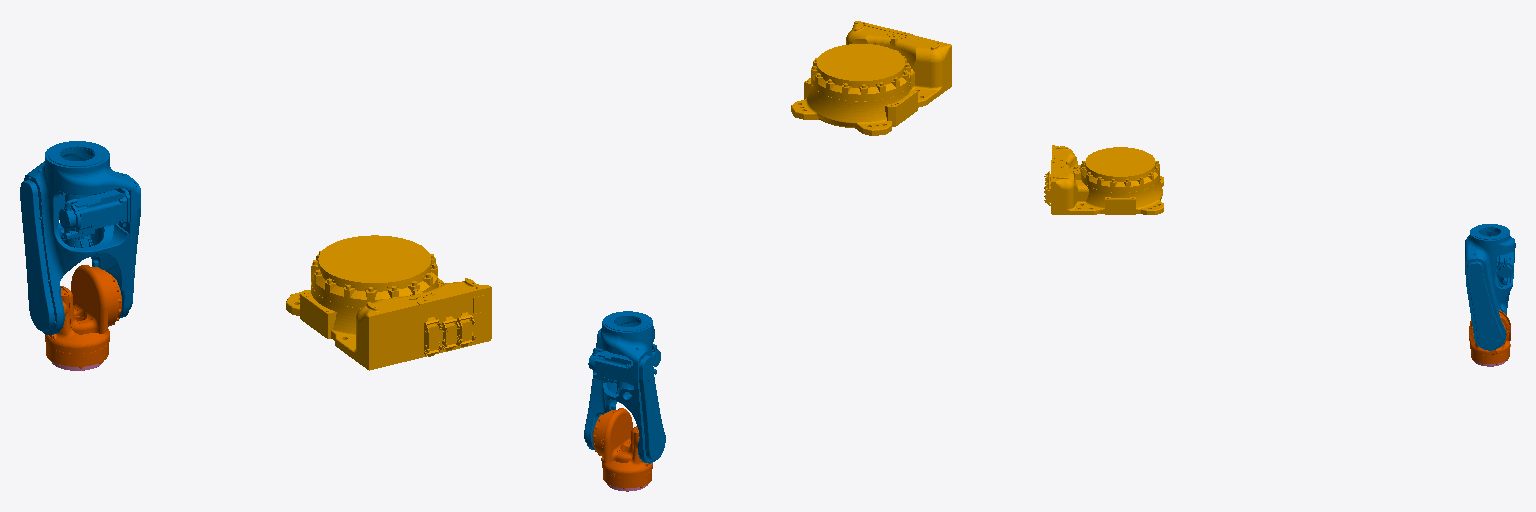
URDF robot description (BT200L-B001):
<?xml version="1.0" ?>
<robot name="BT200L-B001">

<link name="base_link">
  <inertial>
    <origin xyz="0.0005286940631888884 -0.09351962448540763 0.09975361135496807" rpy="0 0 0"/>
    <mass value="414.82916023047306"/>
    <inertia ixx="14.690707" iyy="8.178554" izz="19.669757" ixy="0.149949" iyz="-0.002058" ixz="-0.003263"/>
  </inertial>
  <visual>
    <origin xyz="0 0 0" rpy="0 0 0"/>
    <geometry>
      <mesh filename="package://BT200L-B001_description/meshes/base_link.stl" scale="0.001 0.001 0.001"/>
    </geometry>
    <material name="silver"/>
  </visual>
  <collision>
    <origin xyz="0 0 0" rpy="0 0 0"/>
    <geometry>
      <mesh filename="package://BT200L-B001_description/meshes/base_link.stl" scale="0.001 0.001 0.001"/>
    </geometry>
  </collision>
</link>

<link name="BT200L-B001_J1_1">
  <inertial>
    <origin xyz="-0.07500369954163989 0.24696632421996725 0.1733844924209825" rpy="0 0 0"/>
    <mass value="465.24384462946125"/>
    <inertia ixx="63.006819" iyy="13.410029" izz="64.062714" ixy="7.542895" iyz="-4.879336" ixz="1.583862"/>
  </inertial>
  <visual>
    <origin xyz="-0.0 -0.0 -0.22" rpy="0 0 0"/>
    <geometry>
      <mesh filename="package://BT200L-B001_description/meshes/BT200L-B001_J1_1.stl" scale="0.001 0.001 0.001"/>
    </geometry>
    <material name="silver"/>
  </visual>
  <collision>
    <origin xyz="-0.0 -0.0 -0.22" rpy="0 0 0"/>
    <geometry>
      <mesh filename="package://BT200L-B001_description/meshes/BT200L-B001_J1_1.stl" scale="0.001 0.001 0.001"/>
    </geometry>
  </collision>
</link>

<link name="BT200L-B001_J2_1">
  <inertial>
    <origin xyz="0.15345722898509323 0.5216823321026636 0.0006238393241979057" rpy="0 0 0"/>
    <mass value="325.69542470916366"/>
    <inertia ixx="89.225817" iyy="5.399661" izz="88.43321" ixy="-4.743946" iyz="-2.674622" ixz="-0.112634"/>
  </inertial>
  <visual>
    <origin xyz="0.047 -0.72 -0.45" rpy="0 0 0"/>
    <geometry>
      <mesh filename="package://BT200L-B001_description/meshes/BT200L-B001_J2_1.stl" scale="0.001 0.001 0.001"/>
    </geometry>
    <material name="silver"/>
  </visual>
  <collision>
    <origin xyz="0.047 -0.72 -0.45" rpy="0 0 0"/>
    <geometry>
      <mesh filename="package://BT200L-B001_description/meshes/BT200L-B001_J2_1.stl" scale="0.001 0.001 0.001"/>
    </geometry>
  </collision>
</link>

<link name="BT200L-B001_J3_1">
  <inertial>
    <origin xyz="-0.0550736653061177 0.15038418270685439 -0.2343042390577201" rpy="0 0 0"/>
    <mass value="277.8317664083973"/>
    <inertia ixx="19.421359" iyy="16.181662" izz="6.951644" ixy="-0.943991" iyz="5.382507" ixz="1.620478"/>
  </inertial>
  <visual>
    <origin xyz="-0.028 -1.88 -0.45" rpy="0 0 0"/>
    <geometry>
      <mesh filename="package://BT200L-B001_description/meshes/BT200L-B001_J3_1.stl" scale="0.001 0.001 0.001"/>
    </geometry>
    <material name="silver"/>
  </visual>
  <collision>
    <origin xyz="-0.028 -1.88 -0.45" rpy="0 0 0"/>
    <geometry>
      <mesh filename="package://BT200L-B001_description/meshes/BT200L-B001_J3_1.stl" scale="0.001 0.001 0.001"/>
    </geometry>
  </collision>
</link>

<link name="BT200L-B001_J4_1">
  <inertial>
    <origin xyz="0.01573601600857133 -0.002615193534015514 -0.3007855680726862" rpy="0 0 0"/>
    <mass value="137.80444346476054"/>
    <inertia ixx="4.612842" iyy="5.628135" izz="2.502099" ixy="0.456752" iyz="-0.008447" ixz="0.062645"/>
  </inertial>
  <visual>
    <origin xyz="-0.0 -2.11 0.22" rpy="0 0 0"/>
    <geometry>
      <mesh filename="package://BT200L-B001_description/meshes/BT200L-B001_J4_1.stl" scale="0.001 0.001 0.001"/>
    </geometry>
    <material name="silver"/>
  </visual>
  <collision>
    <origin xyz="-0.0 -2.11 0.22" rpy="0 0 0"/>
    <geometry>
      <mesh filename="package://BT200L-B001_description/meshes/BT200L-B001_J4_1.stl" scale="0.001 0.001 0.001"/>
    </geometry>
  </collision>
</link>

<link name="BT200L-B001_J5_1">
  <inertial>
    <origin xyz="0.12634193526589904 2.206606219123941e-05 -0.07271412849730297" rpy="0 0 0"/>
    <mass value="62.631999269753"/>
    <inertia ixx="0.630426" iyy="0.710718" izz="0.446924" ixy="-0.000356" iyz="5e-06" ixz="-0.138208"/>
  </inertial>
  <visual>
    <origin xyz="0.098 -2.11 0.8" rpy="0 0 0"/>
    <geometry>
      <mesh filename="package://BT200L-B001_description/meshes/BT200L-B001_J5_1.stl" scale="0.001 0.001 0.001"/>
    </geometry>
    <material name="silver"/>
  </visual>
  <collision>
    <origin xyz="0.098 -2.11 0.8" rpy="0 0 0"/>
    <geometry>
      <mesh filename="package://BT200L-B001_description/meshes/BT200L-B001_J5_1.stl" scale="0.001 0.001 0.001"/>
    </geometry>
  </collision>
</link>

<link name="BT200L-B001_J6_1">
  <inertial>
    <origin xyz="9.047288604791231e-05 1.7691495791449796e-05 -0.012836677766939308" rpy="0 0 0"/>
    <mass value="4.502775785862462"/>
    <inertia ixx="0.01163" iyy="0.011626" izz="0.022825" ixy="1e-06" iyz="2e-06" ixz="2e-06"/>
  </inertial>
  <visual>
    <origin xyz="-0.0 -2.11 1.0" rpy="0 0 0"/>
    <geometry>
      <mesh filename="package://BT200L-B001_description/meshes/BT200L-B001_J6_1.stl" scale="0.001 0.001 0.001"/>
    </geometry>
    <material name="silver"/>
  </visual>
  <collision>
    <origin xyz="-0.0 -2.11 1.0" rpy="0 0 0"/>
    <geometry>
      <mesh filename="package://BT200L-B001_description/meshes/BT200L-B001_J6_1.stl" scale="0.001 0.001 0.001"/>
    </geometry>
  </collision>
</link>

<joint name="j1" type="continuous">
  <origin xyz="0.0 0.0 0.22" rpy="0 0 0"/>
  <parent link="base_link"/>
  <child link="BT200L-B001_J1_1"/>
  <axis xyz="0.0 0.0 1.0"/>
</joint>

<joint name="j2" type="continuous">
  <origin xyz="-0.047 0.72 0.23" rpy="0 0 0"/>
  <parent link="BT200L-B001_J1_1"/>
  <child link="BT200L-B001_J2_1"/>
  <axis xyz="1.0 -0.0 -0.0"/>
</joint>

<joint name="j3" type="continuous">
  <origin xyz="0.075 1.16 0.0" rpy="0 0 0"/>
  <parent link="BT200L-B001_J2_1"/>
  <child link="BT200L-B001_J3_1"/>
  <axis xyz="1.0 -0.0 0.0"/>
</joint>

<joint name="j4" type="continuous">
  <origin xyz="-0.028 0.23 -0.67" rpy="0 0 0"/>
  <parent link="BT200L-B001_J3_1"/>
  <child link="BT200L-B001_J4_1"/>
  <axis xyz="0.0 -0.0 -1.0"/>
</joint>

<joint name="j5" type="continuous">
  <origin xyz="-0.098 0.0 -0.58" rpy="0 0 0"/>
  <parent link="BT200L-B001_J4_1"/>
  <child link="BT200L-B001_J5_1"/>
  <axis xyz="1.0 0.0 0.0"/>
</joint>

<joint name="j6" type="continuous">
  <origin xyz="0.098 0.0 -0.2" rpy="0 0 0"/>
  <parent link="BT200L-B001_J5_1"/>
  <child link="BT200L-B001_J6_1"/>
  <axis xyz="-0.0 0.0 1.0"/>
</joint>

</robot>

--- Render facts (derived) ---
3 views of the same robot in one strip: view 1: azimuth 30°, elevation 25°; view 2: azimuth 150°, elevation 25°; view 3: azimuth 270°, elevation 25° (orthographic).
Model BT200L-B001 with 7 links and 6 joints (6 continuous), rooted at base_link, posed all joints at 0.
Visible links, largest first — view 1: base_link, BT200L-B001_J4_1, BT200L-B001_J5_1; view 2: base_link, BT200L-B001_J4_1, BT200L-B001_J5_1; view 3: base_link, BT200L-B001_J4_1, BT200L-B001_J5_1.
Boxes of the visible links, x1=… form: base_link: x1=286, y1=235, x2=491, y2=370; BT200L-B001_J4_1: x1=20, y1=141, x2=140, y2=334; BT200L-B001_J5_1: x1=45, y1=265, x2=121, y2=368; base_link: x1=791, y1=21, x2=951, y2=135; BT200L-B001_J4_1: x1=584, y1=311, x2=665, y2=463; BT200L-B001_J5_1: x1=593, y1=408, x2=652, y2=489; base_link: x1=1044, y1=145, x2=1163, y2=214; BT200L-B001_J4_1: x1=1465, y1=224, x2=1515, y2=350; BT200L-B001_J5_1: x1=1469, y1=310, x2=1510, y2=364.
Size in the robot's own frame: 0.5 by 2.69 by 1.25 metres.
Meshes: 7 distinct files referenced, 4 mesh visuals loaded (4 binary STL); not drawn: 3 (reference not matched to a file when rendering).
